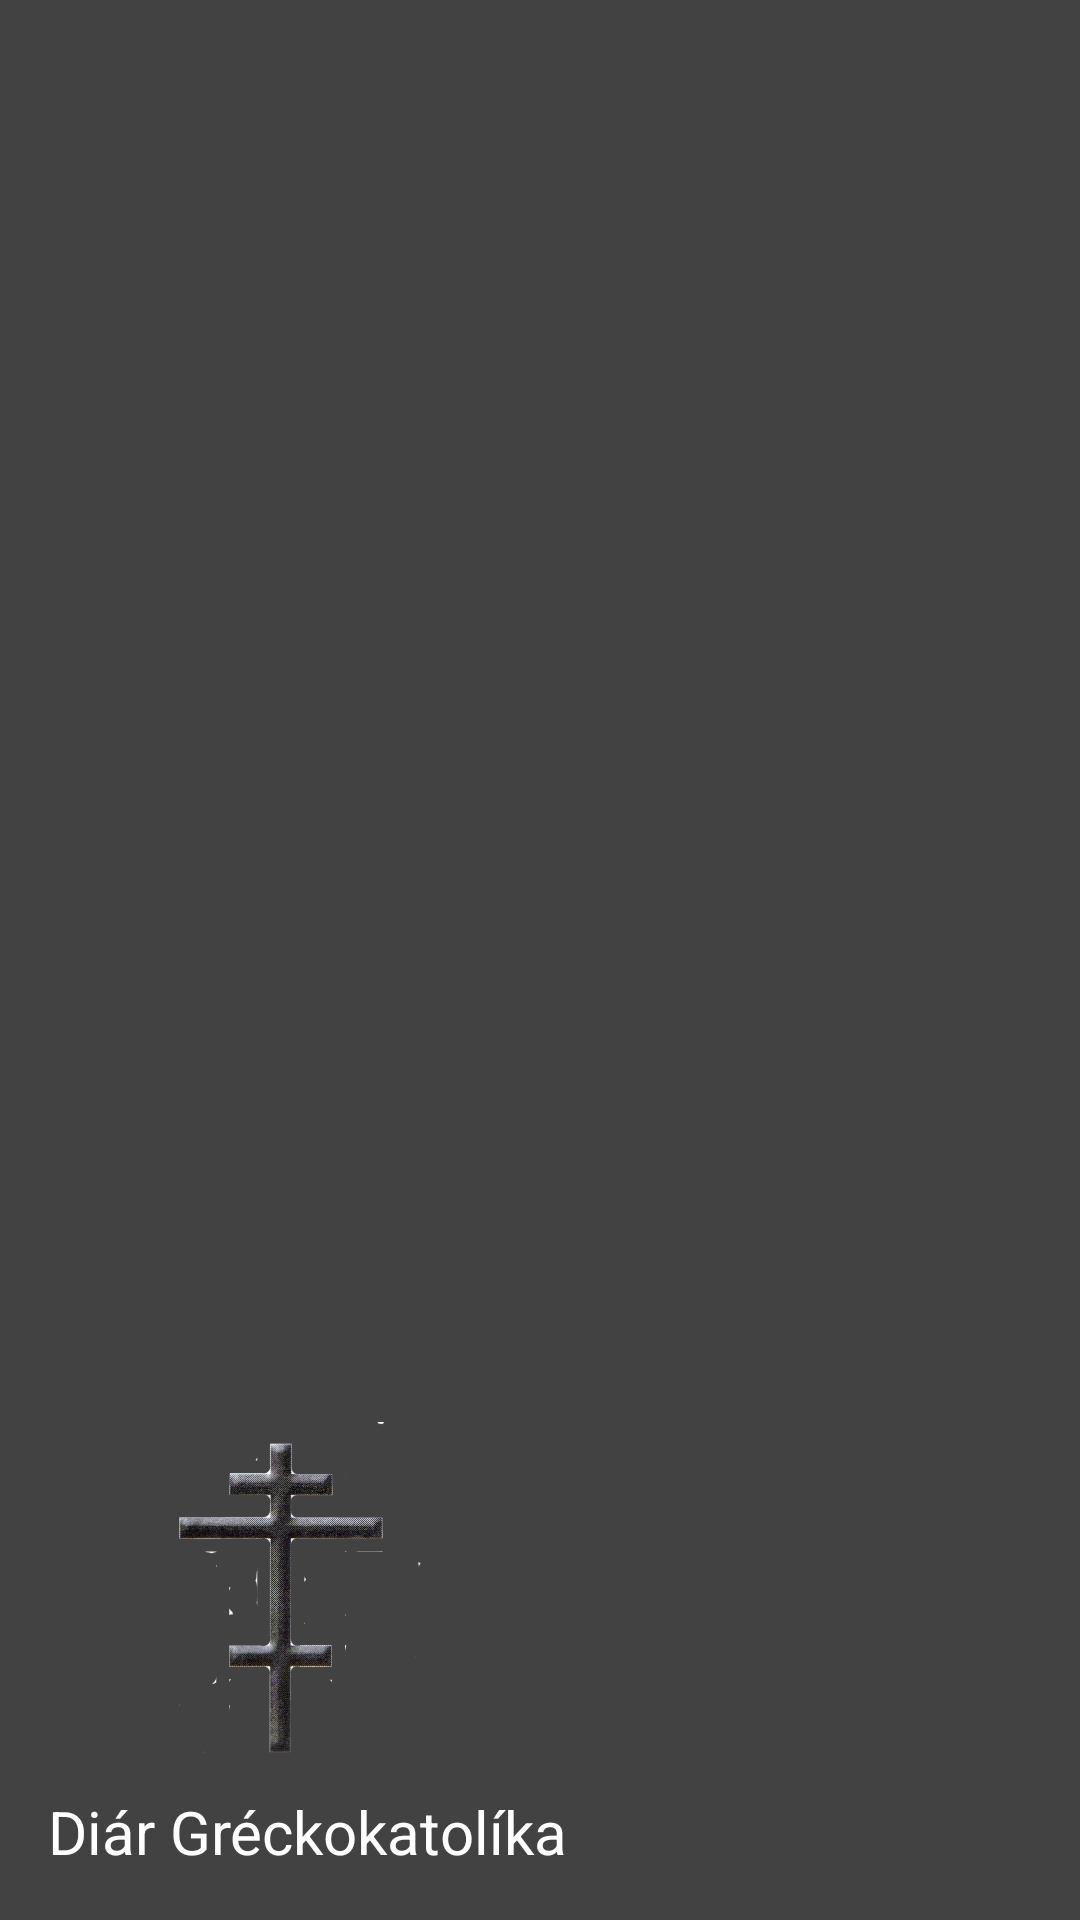

Icons on this 1080 x 1920 Android screen, each with its box as (x1, y1, x2, y2):
cross: (179, 1422, 421, 1752)
